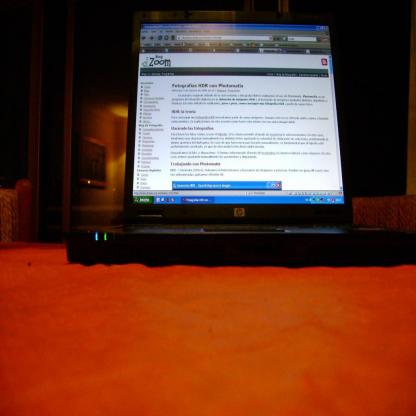board: (64, 8, 416, 263)
